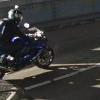Motorcycle: (2, 8, 58, 85)
